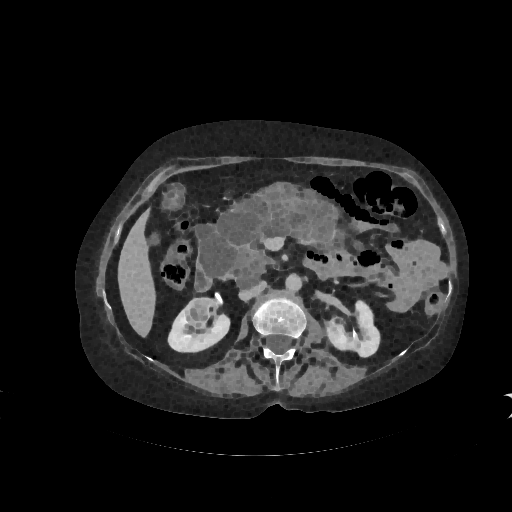Lesion: (183, 296, 219, 342)
